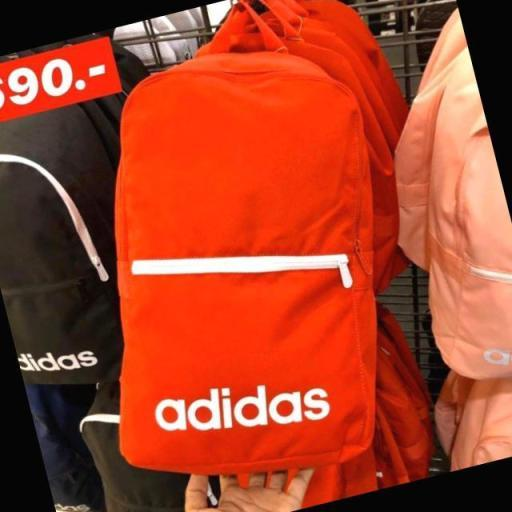bag: (110, 22, 412, 488)
